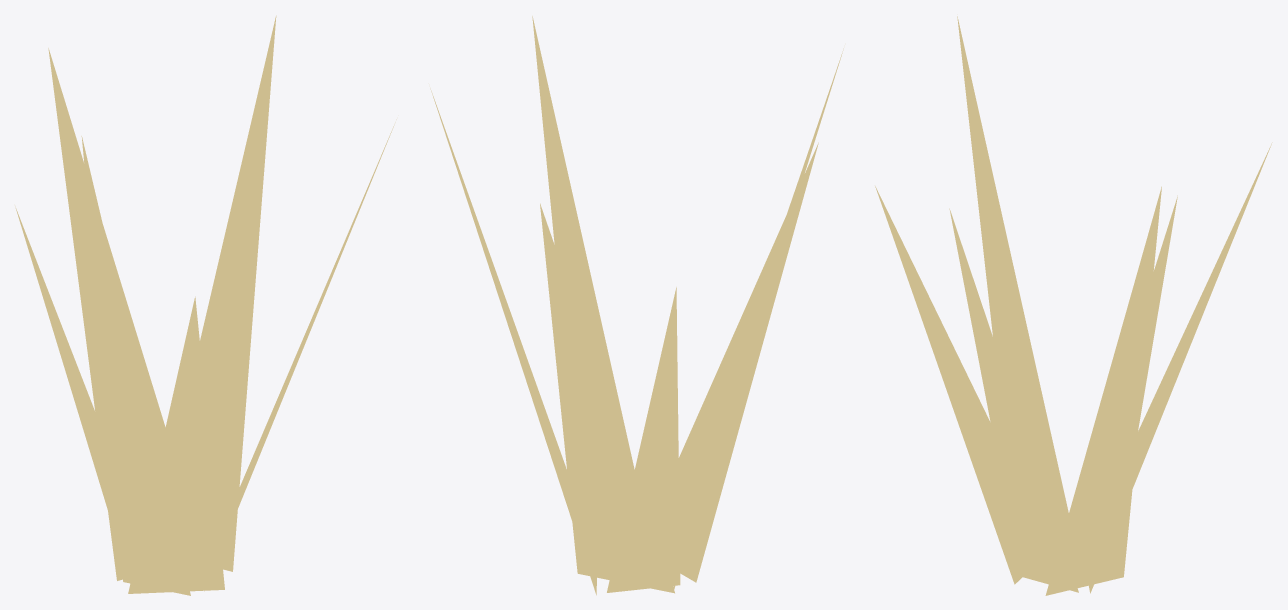
The picture shows the model from 3 angles, left to right: view 1: azimuth 30°, elevation 25°; view 2: azimuth 150°, elevation 25°; view 3: azimuth 270°, elevation 25°; orthographic projection. The views are drawn at different scales.
Parts seen in each view (by area): view 1: SC_LarchGrassGold; view 2: SC_LarchGrassGold; view 3: SC_LarchGrassGold.
Boxes of the visible parts, bbox=[...] form: SC_LarchGrassGold: bbox=[15, 15, 396, 595]; SC_LarchGrassGold: bbox=[430, 16, 843, 595]; SC_LarchGrassGold: bbox=[875, 16, 1272, 595].
Bounding box in the file's own units: 0.4279 × 0.6776 × 0.4994.
